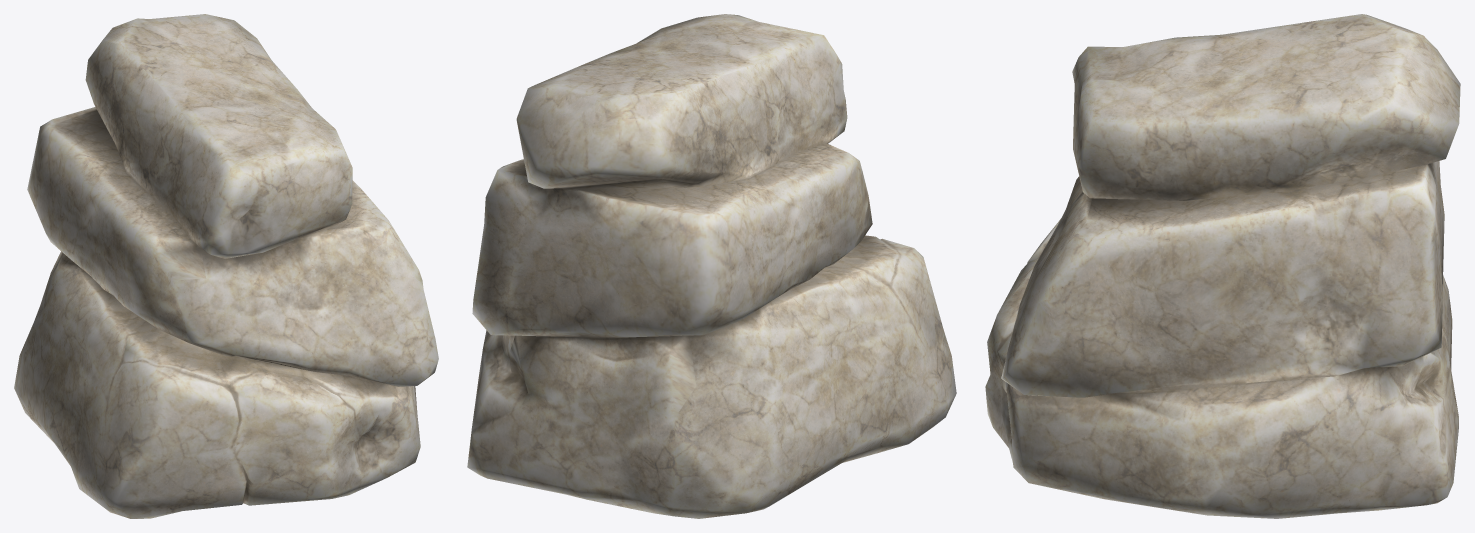
The model's file is SM_StoneNode_5.fbx.
3 views of the same model, side by side, from view 1: azimuth 30°, elevation 25°; view 2: azimuth 150°, elevation 25°; view 3: azimuth 270°, elevation 25° (orthographic). The views are drawn at different scales.
Visible parts, largest first — view 1: SM_StoneNode_5_LOD0; view 2: SM_StoneNode_5_LOD0; view 3: SM_StoneNode_5_LOD0.
Part boxes in pixels (<box>): SM_StoneNode_5_LOD0: <box>14,14,438,518</box>; SM_StoneNode_5_LOD0: <box>467,14,956,518</box>; SM_StoneNode_5_LOD0: <box>985,14,1460,518</box>.
Size of what is drawn, in the model's own units: 1.12 by 1.13 by 1.18.
